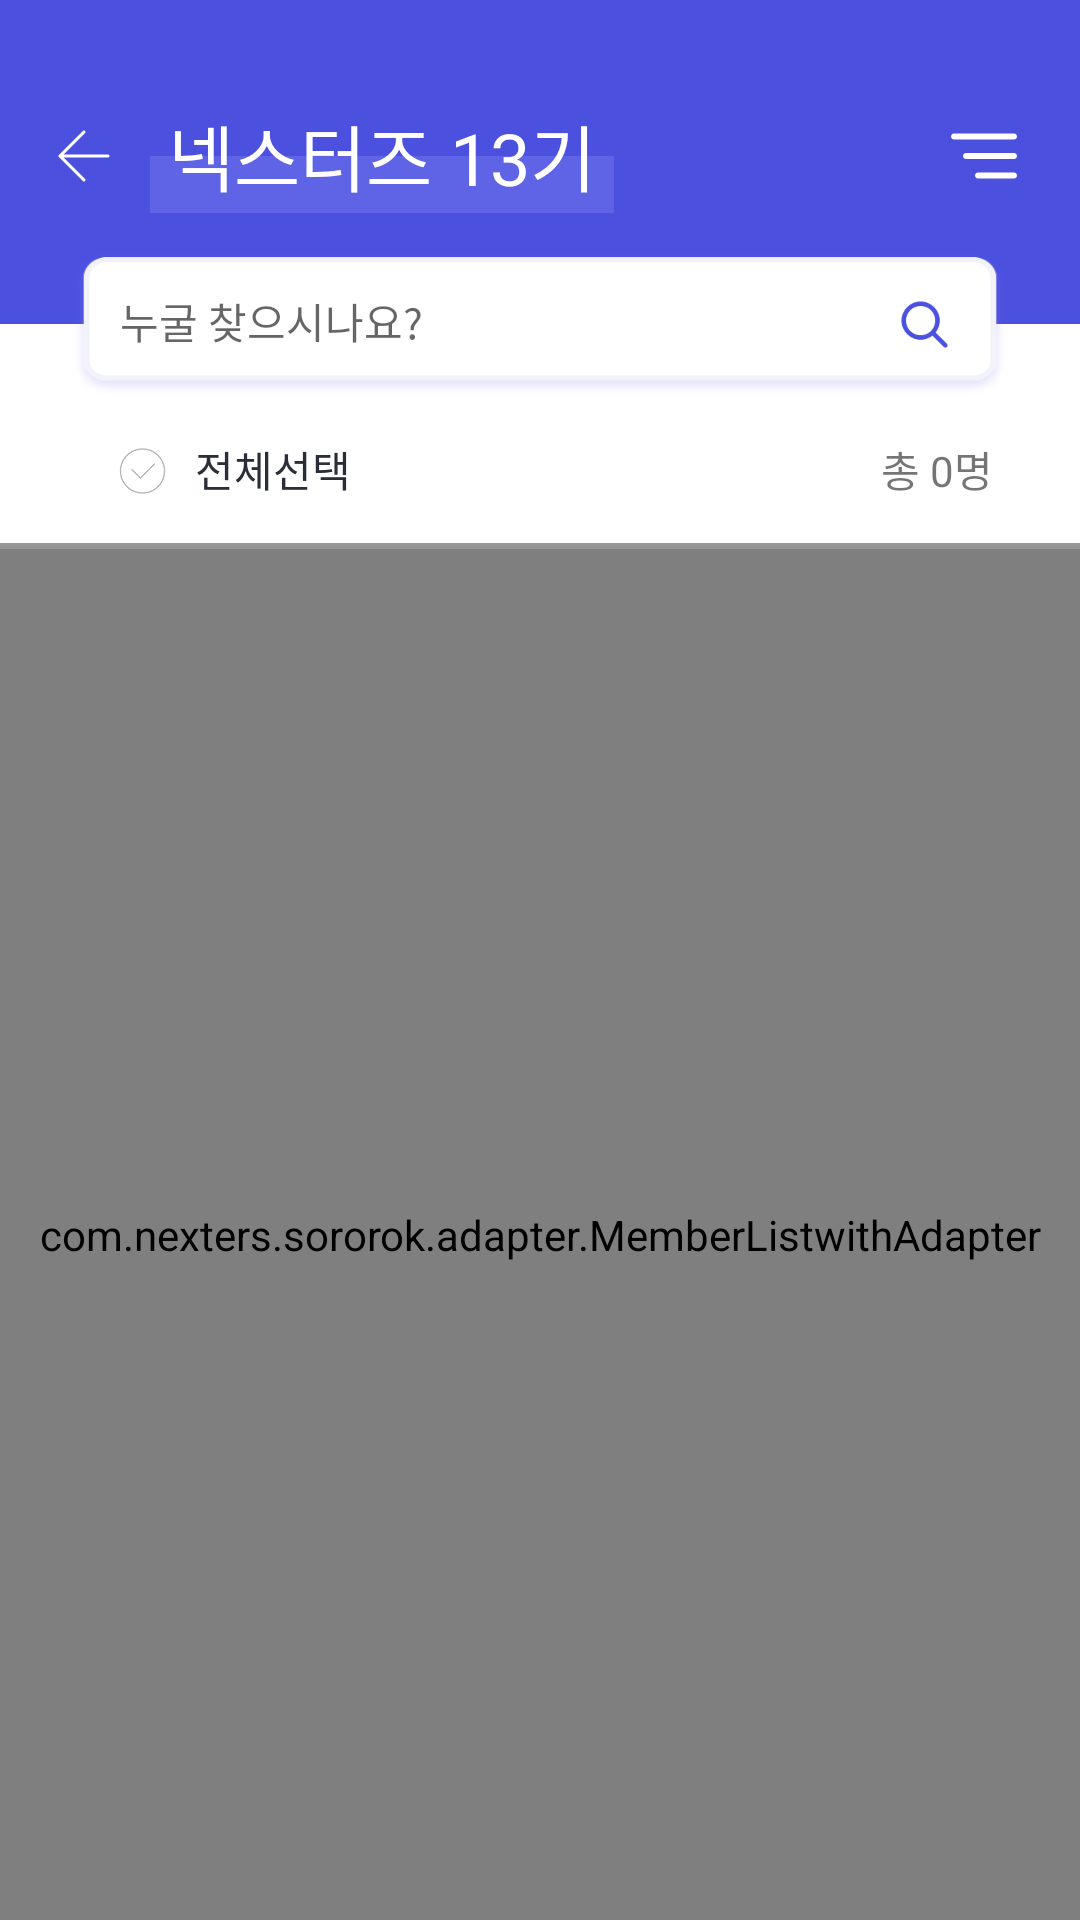

Named icons in this screenshot (1080px x 1920px) and their centers, point (x, y):
comm search check bl: point (924, 324)
list check off: point (142, 471)
